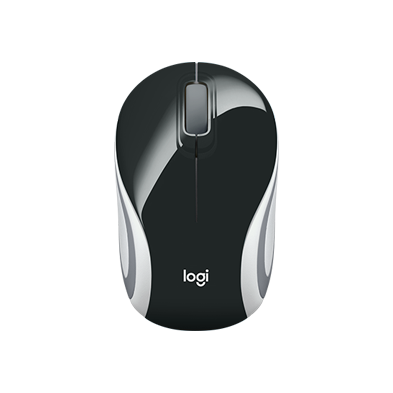logitech-mouse-m185: (112, 60, 286, 337)
